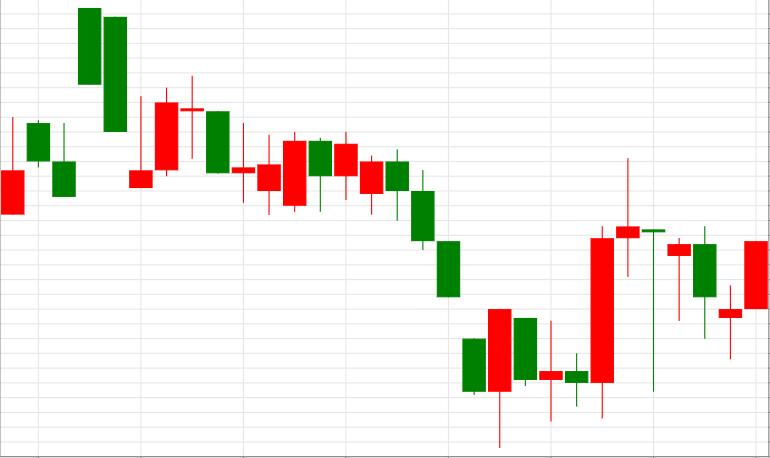bullish_engulfing_rise: (386, 149, 512, 448)
